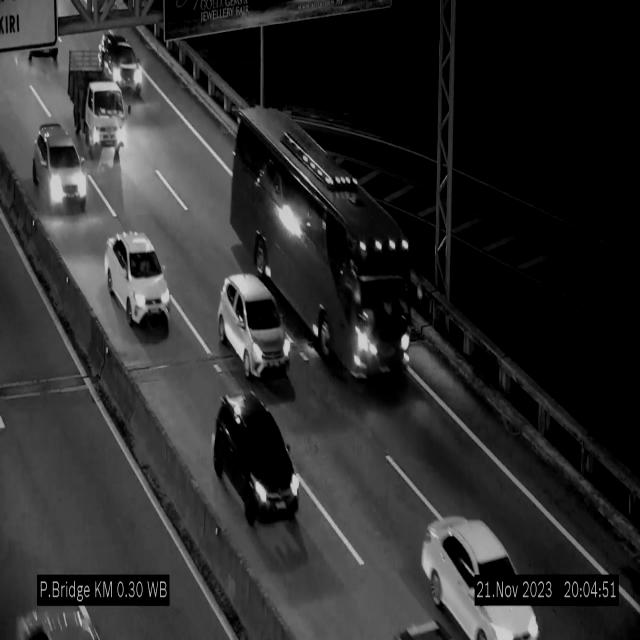Bus: (231, 104, 413, 388)
Car: (416, 488, 542, 640), (215, 395, 302, 533), (219, 275, 291, 379), (106, 230, 170, 326), (33, 125, 88, 211), (99, 30, 143, 96)
Truck: (68, 50, 128, 167)
